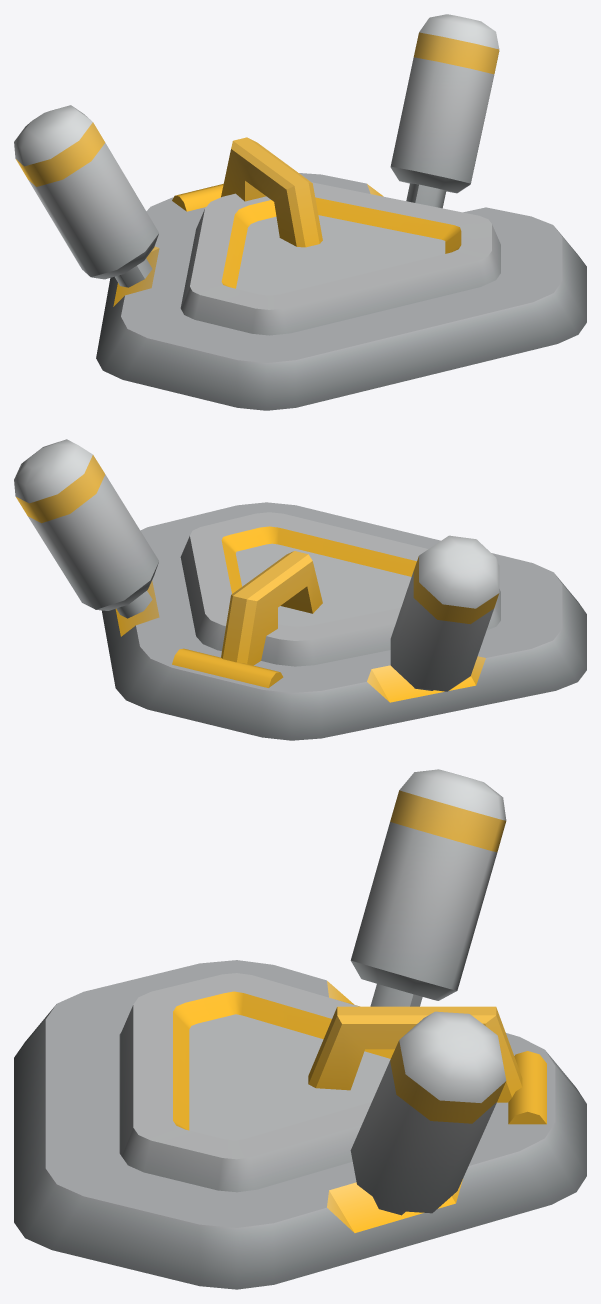
The model's file is Hatch_009.glb.
3 views of the same model, one above another, from view 1: azimuth 30°, elevation 25°; view 2: azimuth 150°, elevation 25°; view 3: azimuth 270°, elevation 25° (orthographic). The views are drawn at different scales.
Visible parts, largest first — view 1: Hatch_009; view 2: Hatch_009; view 3: Hatch_009.
Boxes of the visible parts, x1,y1,x2,y2 form: Hatch_009: (14, 14, 586, 410); Hatch_009: (14, 439, 586, 740); Hatch_009: (14, 769, 586, 1289).
Size of the model in its own units: 1.25 by 0.482 by 1.01.
Materials: 1 (1 with a texture image).
